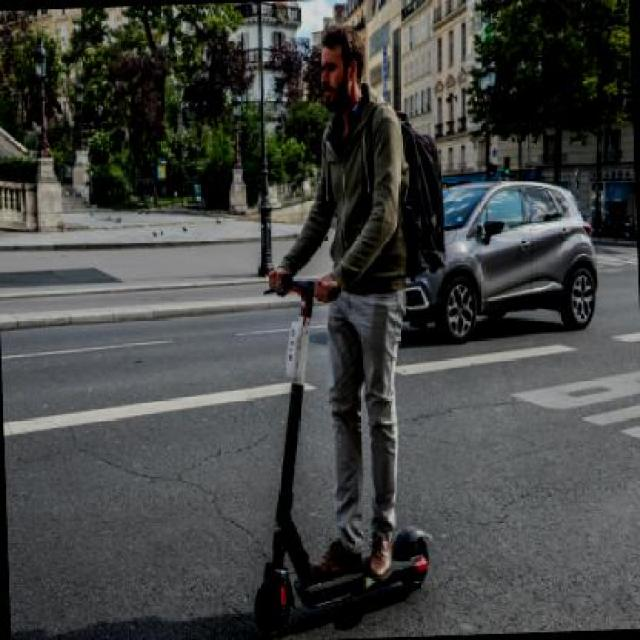bare_head: (298, 20, 384, 108)
human: (286, 18, 427, 571)
kickboard: (230, 537, 478, 614)
